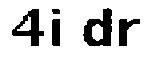4: (9, 8, 47, 49)
d: (81, 3, 114, 55)
i: (49, 6, 64, 48)
r: (116, 16, 143, 47)
